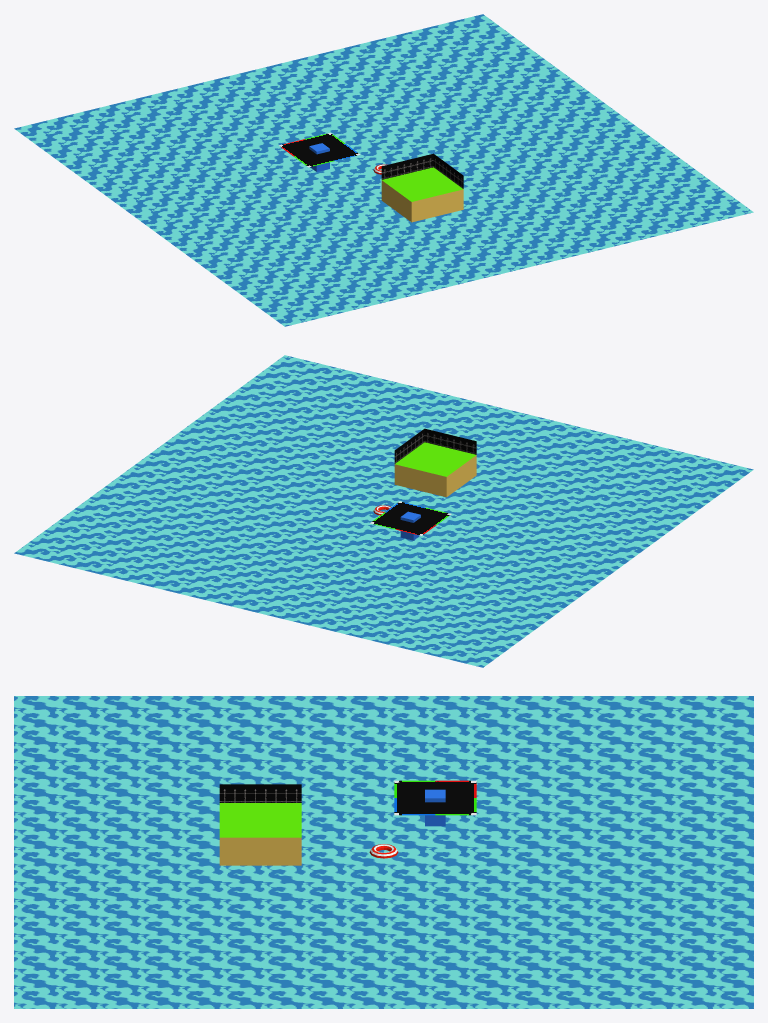
The model's file is transparency.glb.
3 views of the same model, one above another, from view 1: azimuth 30°, elevation 25°; view 2: azimuth 150°, elevation 25°; view 3: azimuth 270°, elevation 25° (orthographic). The views are drawn at different scales.
Parts seen in each view (by area): view 1: Water, Cube, Plane.001, Plane; view 2: Water, Cube, Plane.001, Plane; view 3: Water, Cube, Plane.001, Plane, Cube.001.
Boxes of the visible parts, left/top/right/bottom form: Water: left=14, top=14, right=753, bottom=326; Cube: left=381, top=167, right=463, bottom=222; Plane.001: left=279, top=133, right=360, bottom=167; Plane: left=381, top=153, right=463, bottom=188; Water: left=14, top=355, right=753, bottom=667; Cube: left=394, top=442, right=476, bottom=497; Plane.001: left=370, top=501, right=451, bottom=535; Plane: left=394, top=428, right=476, bottom=463; Water: left=14, top=696, right=753, bottom=1008; Cube: left=219, top=803, right=301, bottom=865; Plane.001: left=394, top=780, right=476, bottom=815; Plane: left=219, top=784, right=301, bottom=802; Cube.001: left=425, top=789, right=445, bottom=826.
Bounding box in the file's own units: 72 × 10 × 72.
4 materials, 3 textured.
